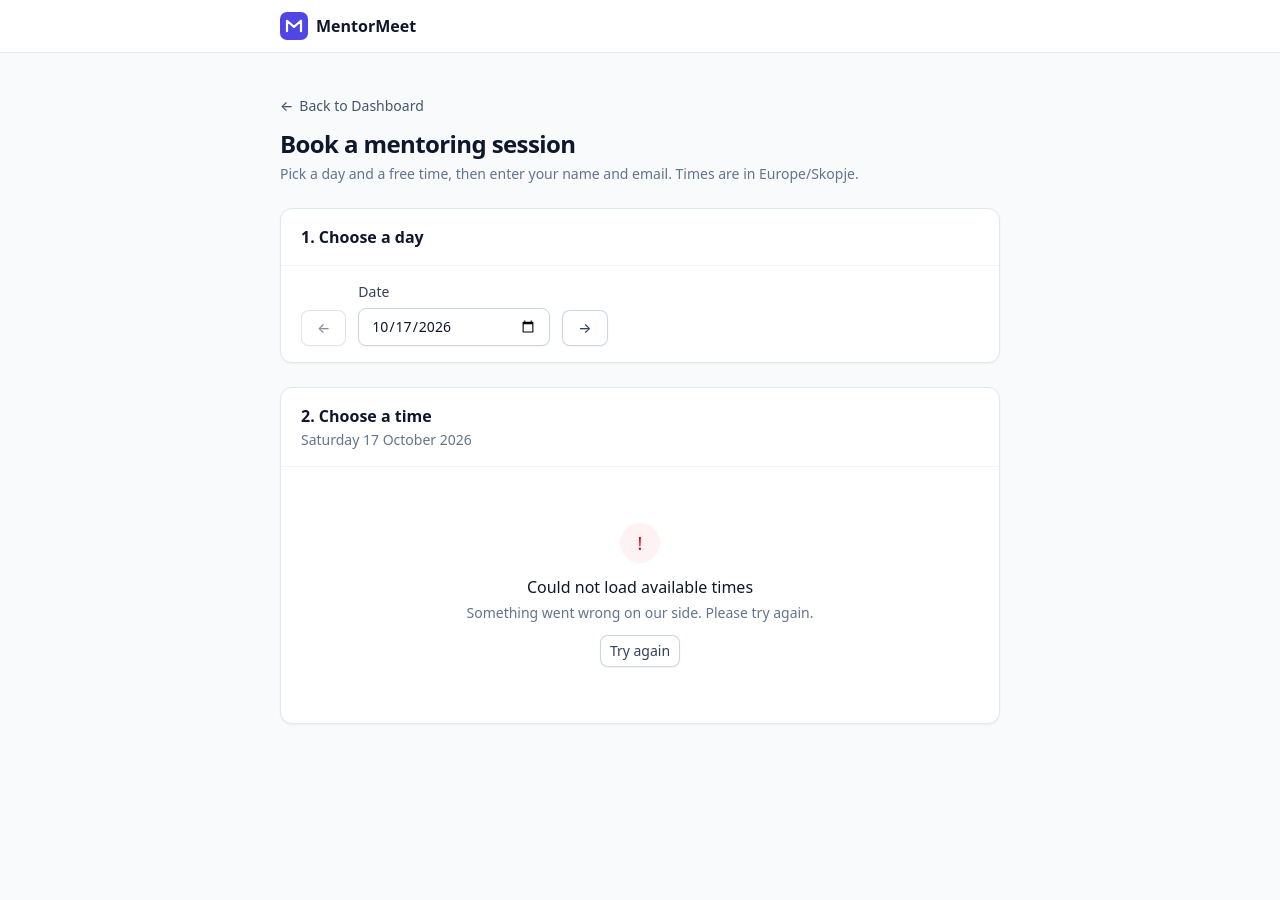
BookingPage › shows an error state and recovers after retry
The image size is (1280, 900).
Expected: the text "Could not load available times" is shown, 527,576 -> 753,598
Expected: the text "Something went wrong on our side. Please try again." is shown, 466,603 -> 814,623
Click the button "Try again": (640, 651) 600,635 -> 680,667
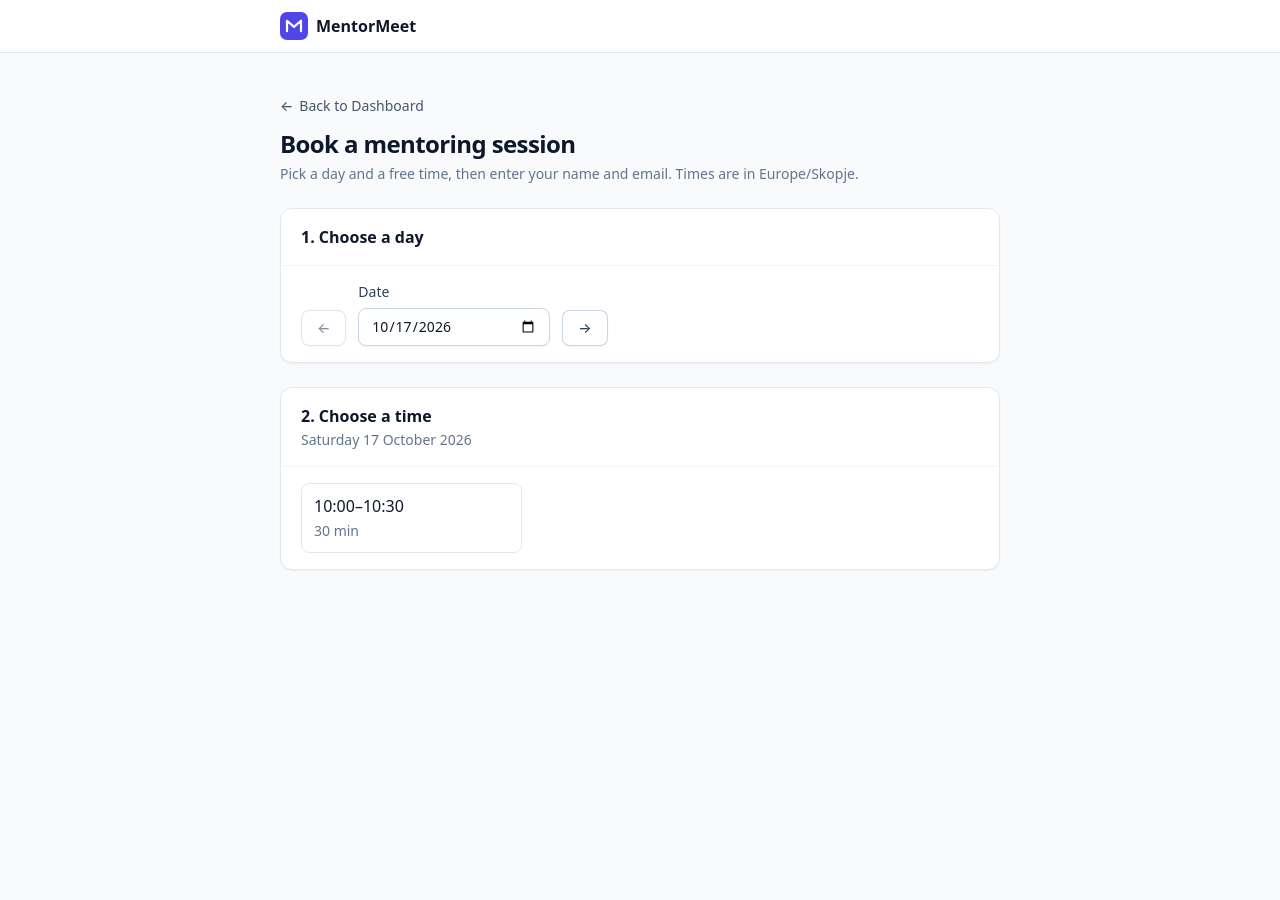
Expected: the text "10:00–10:30" is shown, 314,495 -> 404,517
